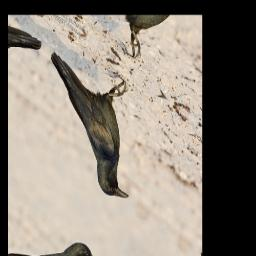Crow: (22, 30, 163, 210)
